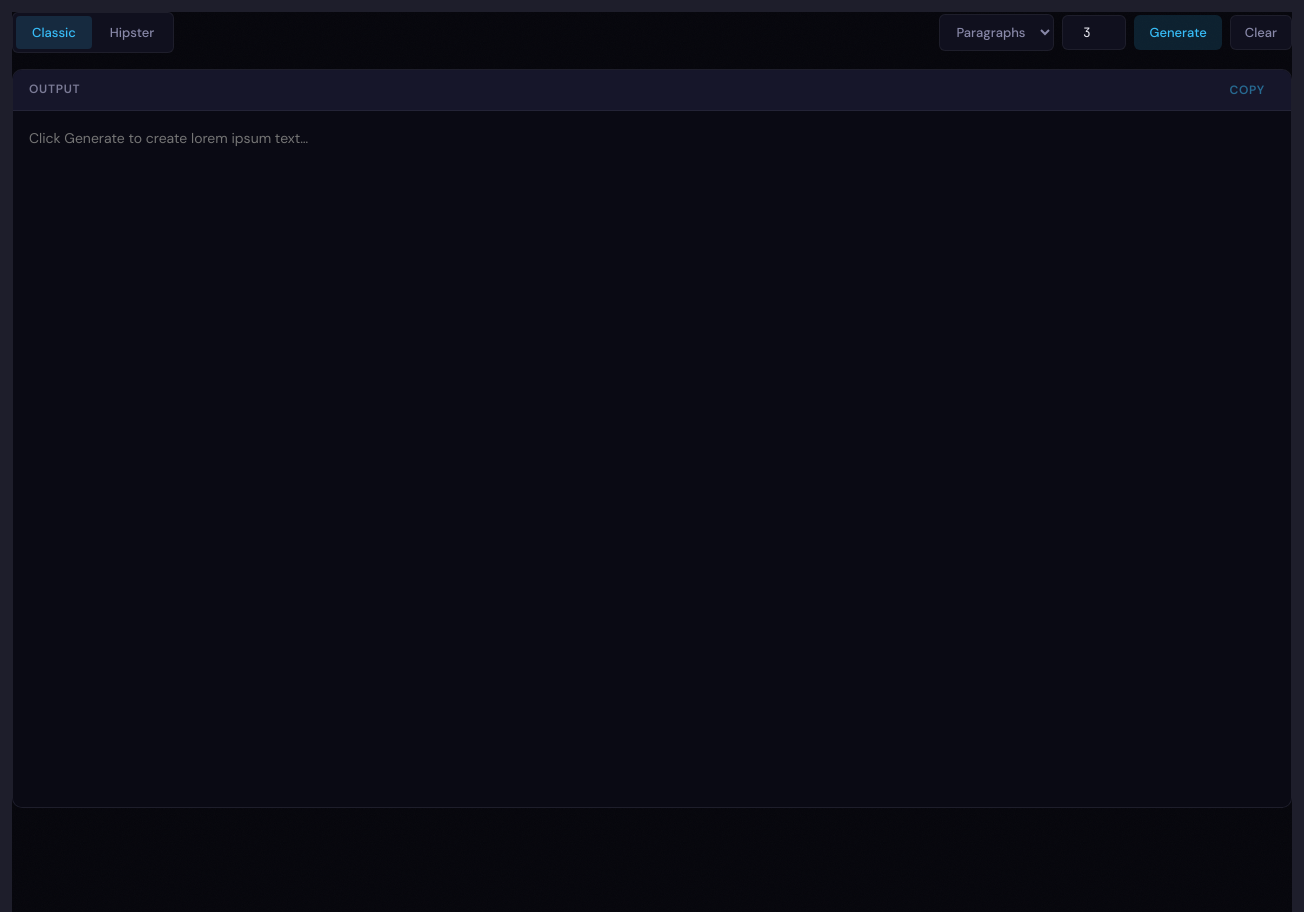
it: LoremGenerator › clears output
Click the button "Generate": (1178, 32) x1=1134 y1=15 x2=1222 y2=50
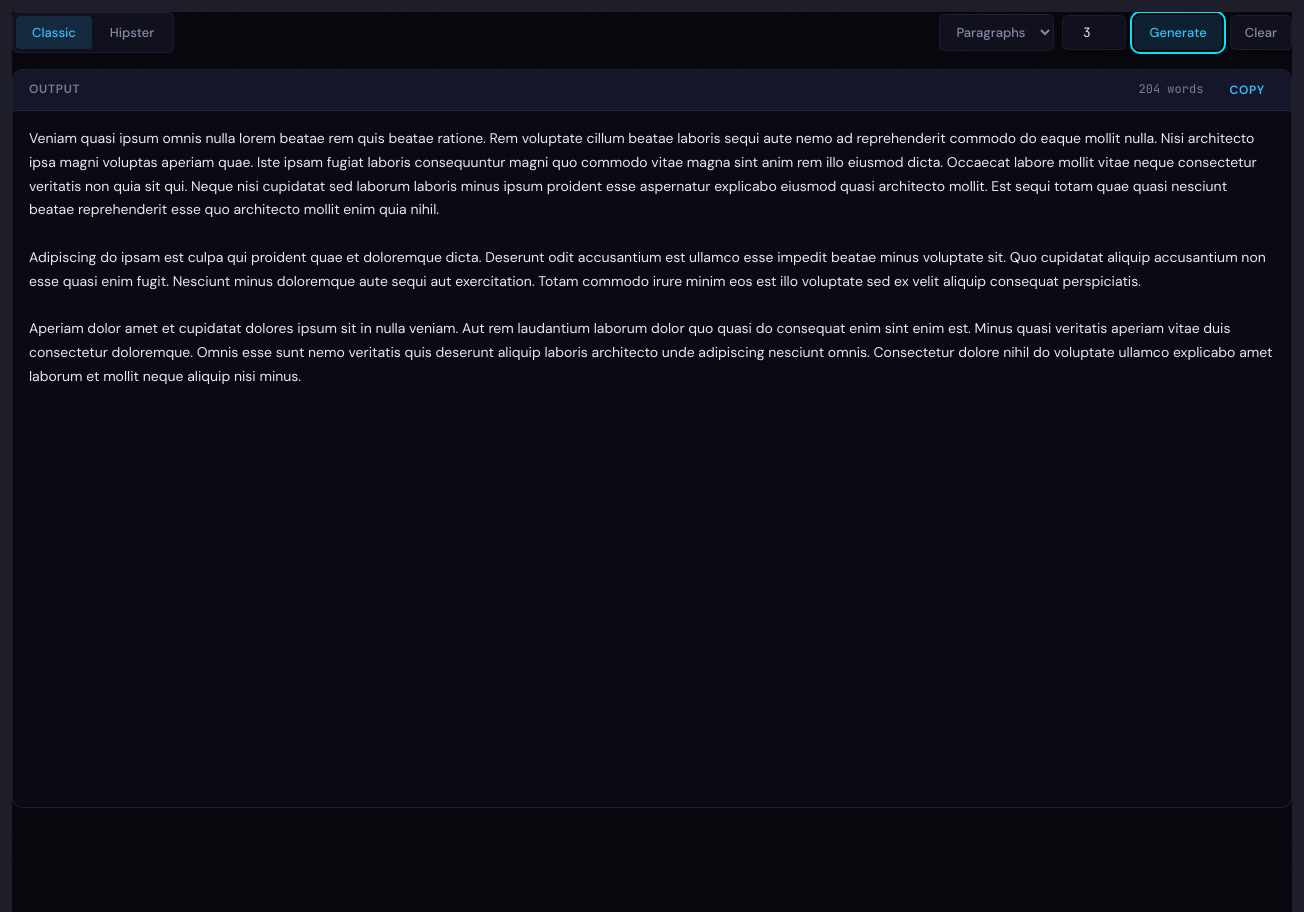
Click the button "Clear": (1261, 32) x1=1230 y1=15 x2=1292 y2=50
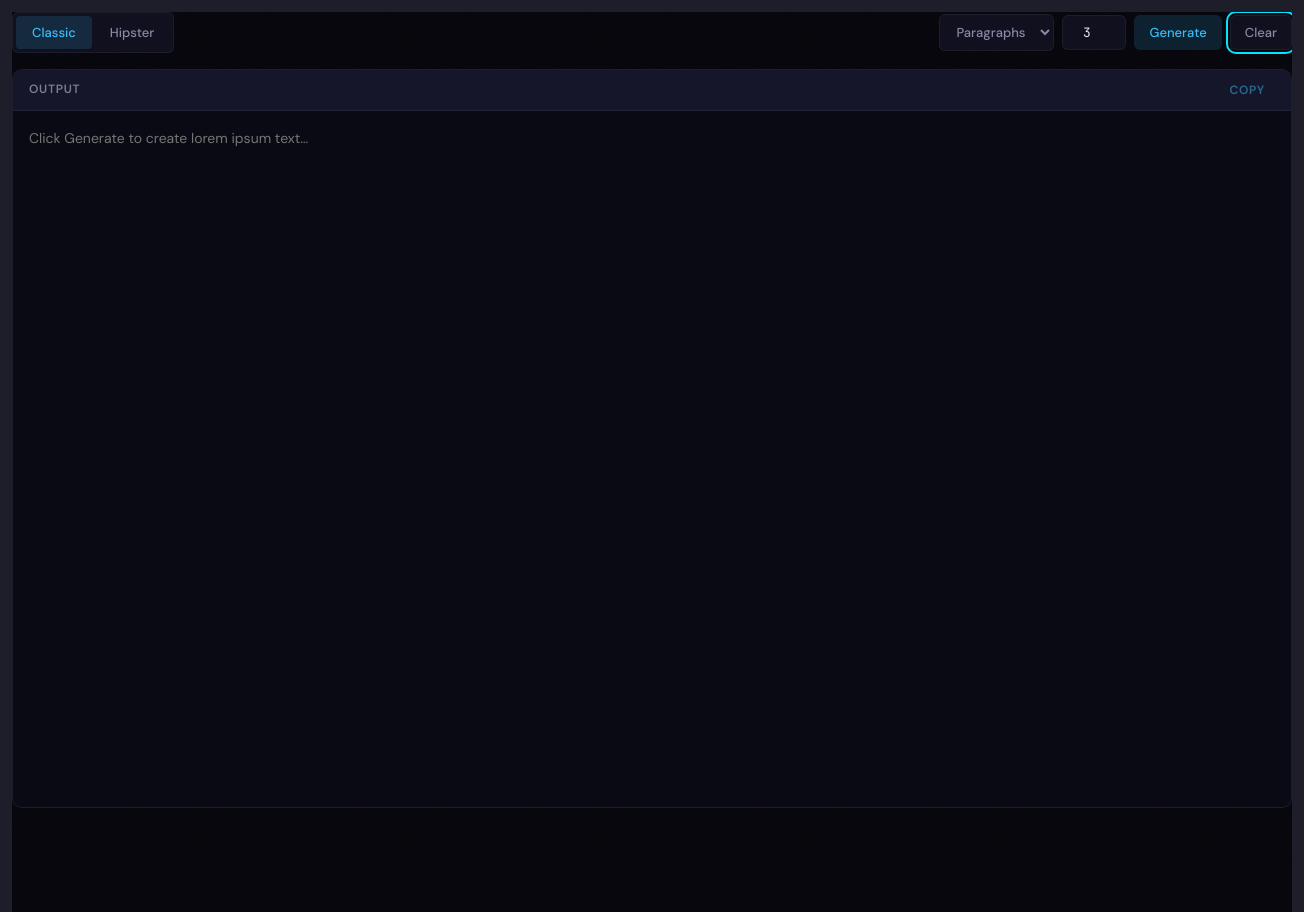
Result: the text box named "generated text output" is empty
